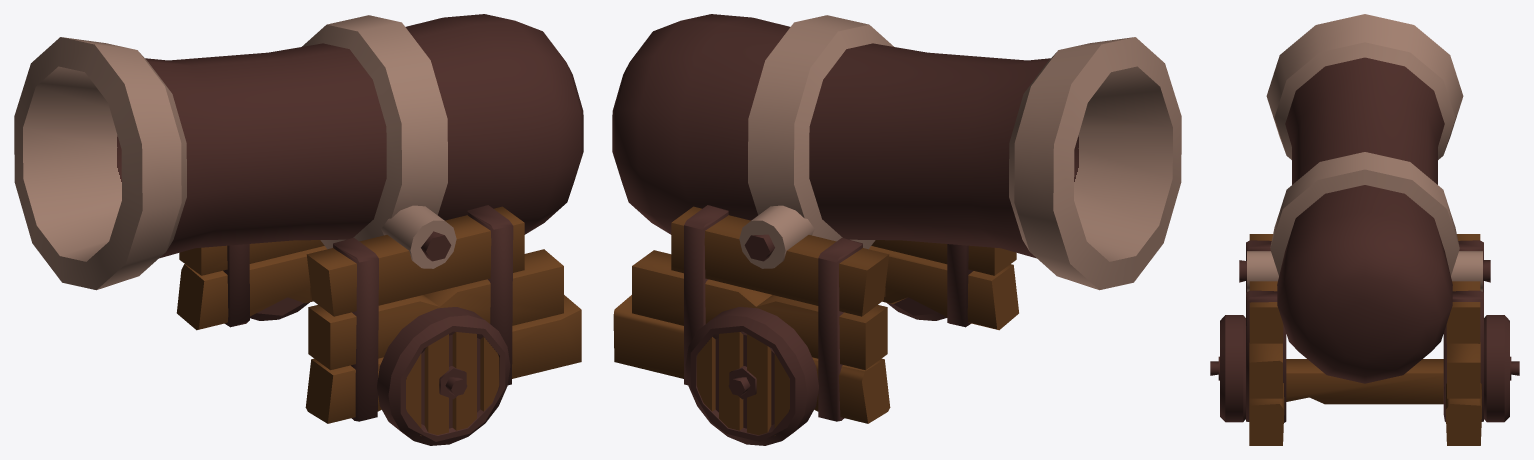
Rendered from Prop_Cannon.gltf.
3 views of the same model, side by side, from view 1: azimuth 30°, elevation 25°; view 2: azimuth 150°, elevation 25°; view 3: azimuth 270°, elevation 25° (orthographic). The views are drawn at different scales.
Parts seen in each view (by area): view 1: Prop_Cannon; view 2: Prop_Cannon; view 3: Prop_Cannon.
Boxes of the visible parts, x1,y1,x2,y2 form: Prop_Cannon: (14,14,583,445); Prop_Cannon: (612,14,1181,445); Prop_Cannon: (1210,14,1519,445).
Size of the model in its own units: 1.48 by 1.13 by 1.04.
Materials: 1 (1 with a texture image).
